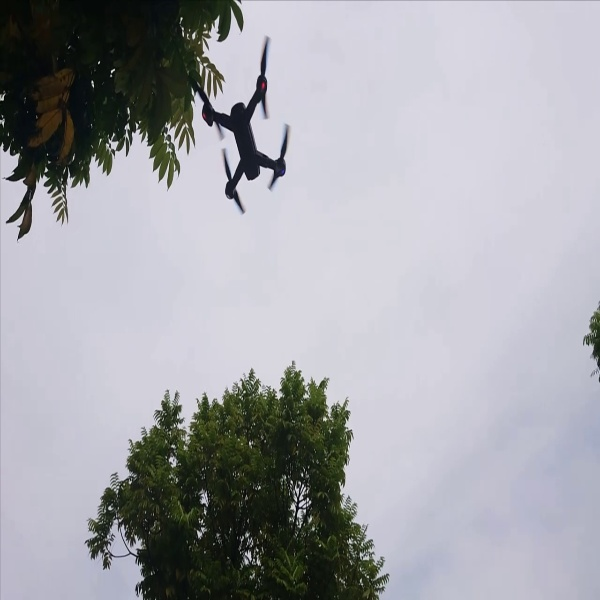drone: (190, 38, 297, 216)
